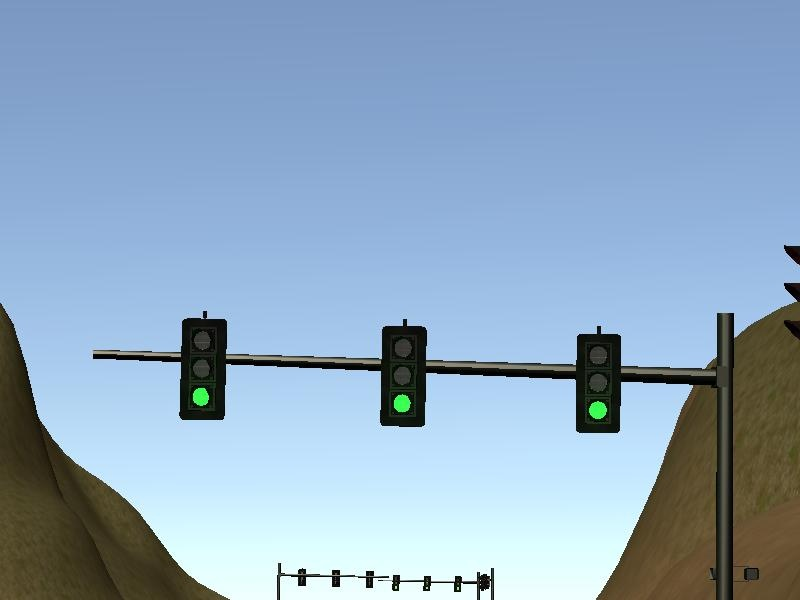green: (381, 325, 429, 429), (180, 317, 230, 416), (577, 334, 624, 434), (455, 575, 462, 596), (394, 574, 398, 597), (424, 577, 429, 595)
